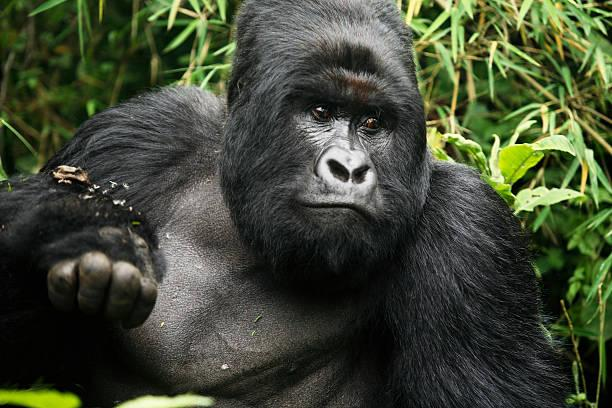goriile_montagne: (16, 0, 612, 396)
